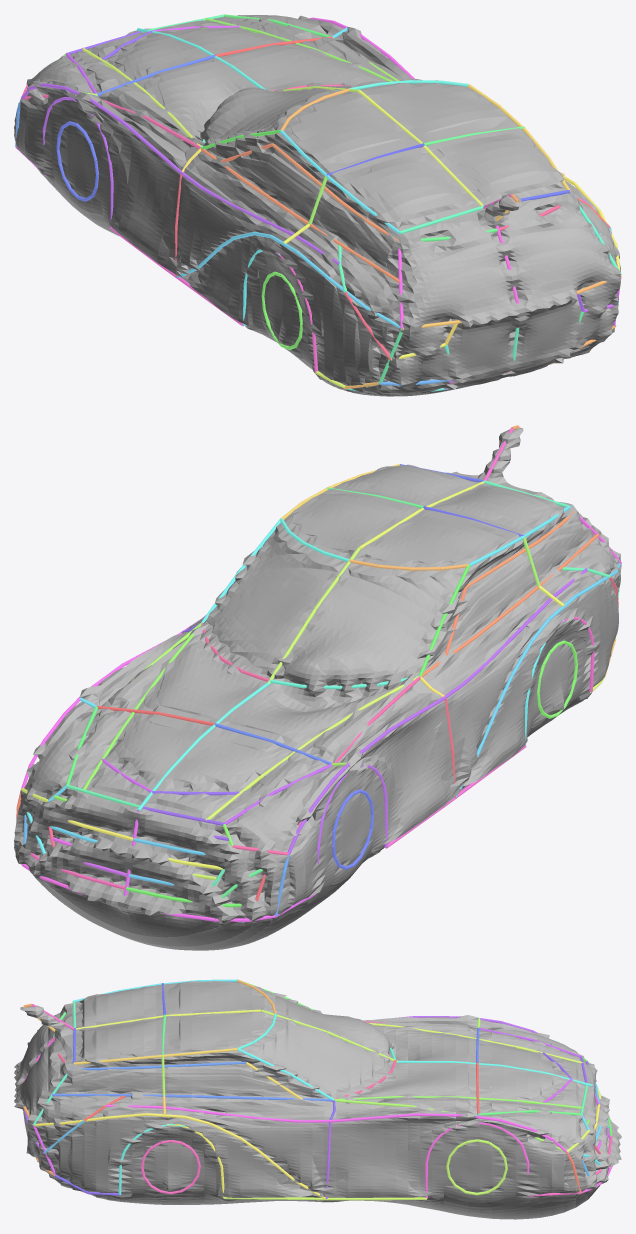
Rendered from ils_car4.gltf.
The picture shows the model from 3 angles, top to bottom: view 1: azimuth 30°, elevation 25°; view 2: azimuth 150°, elevation 25°; view 3: azimuth 270°, elevation 25°; orthographic projection. The views are drawn at different scales.
Size of the model in its own units: 0.3824 by 0.3339 by 0.9196.
